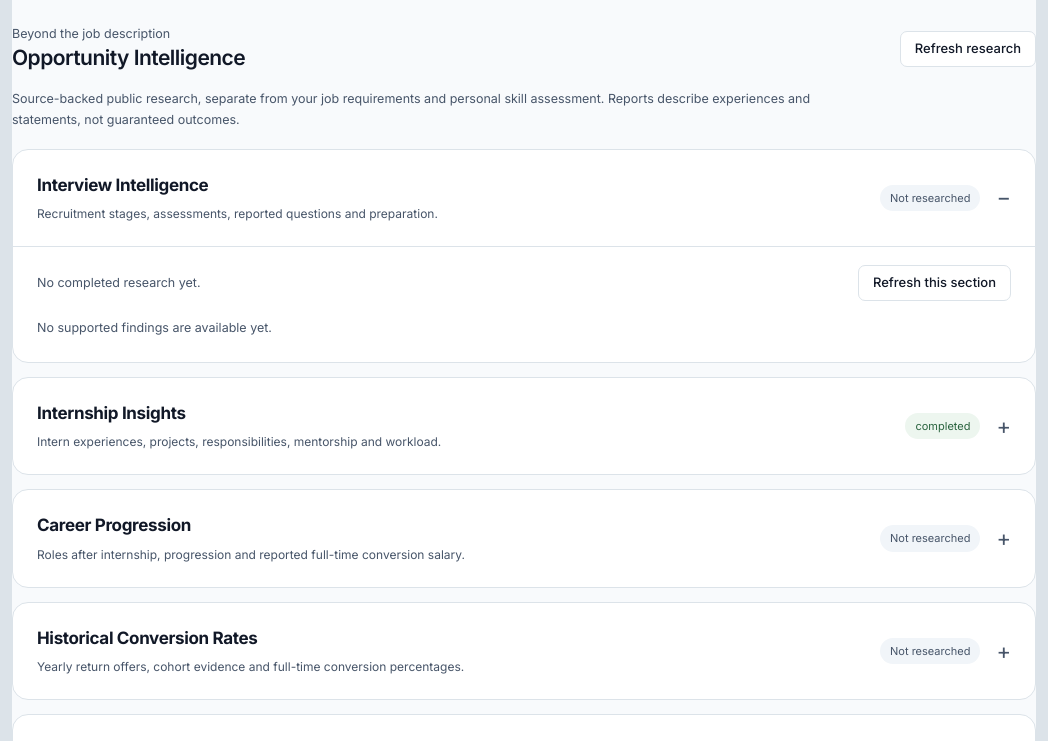
Test case: loads version-pinned evidence only when its disclosure is opened
Click the text "Internship Insights".
click(111, 413)  # box [37,403,186,423]
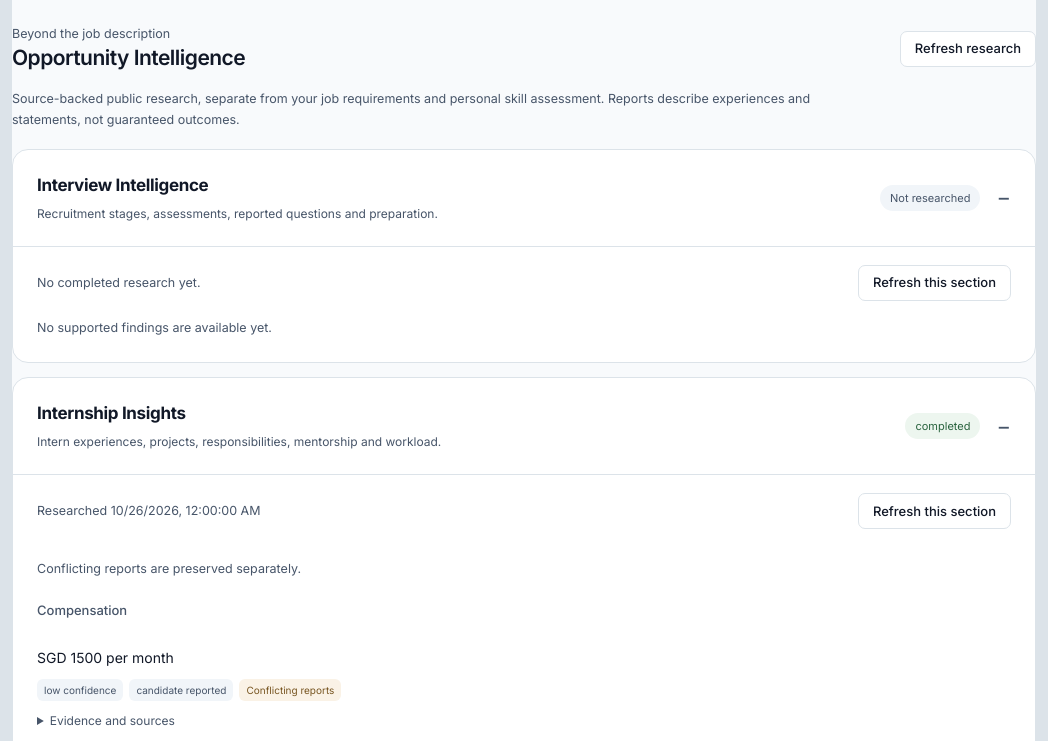
Click the heading "Evidence and sources".
click(112, 721)  # box [50,713,175,728]
(page scrolled)
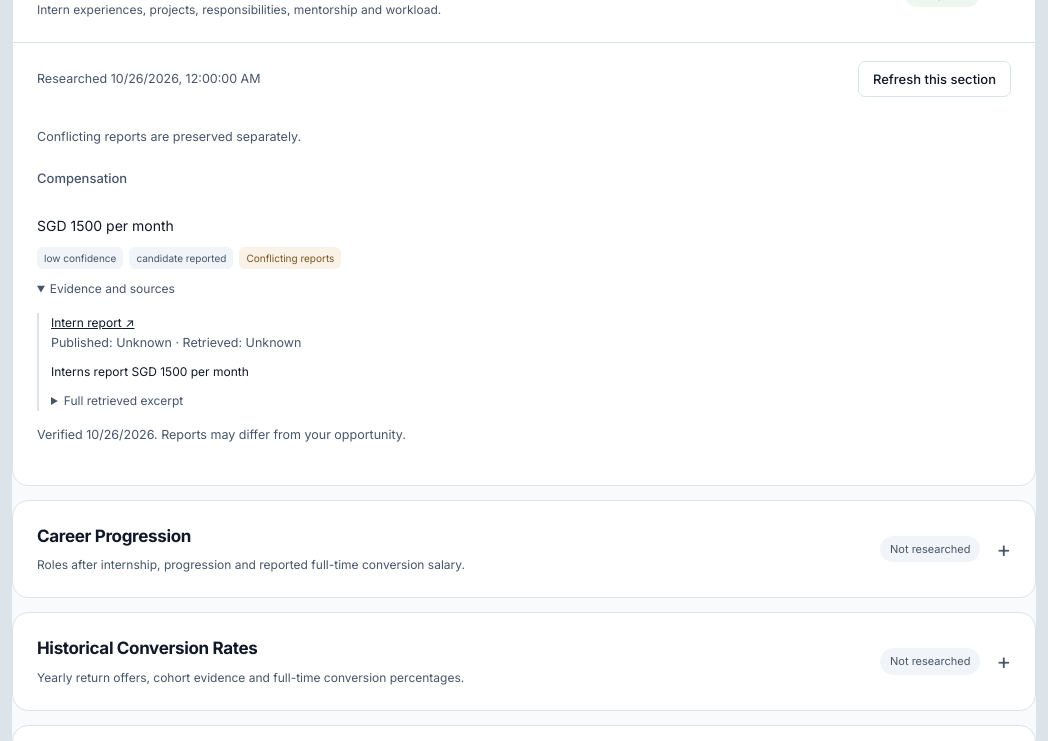
Expected: the text "Interns report SGD 1500 per month" is shown, [51,364,249,379]
